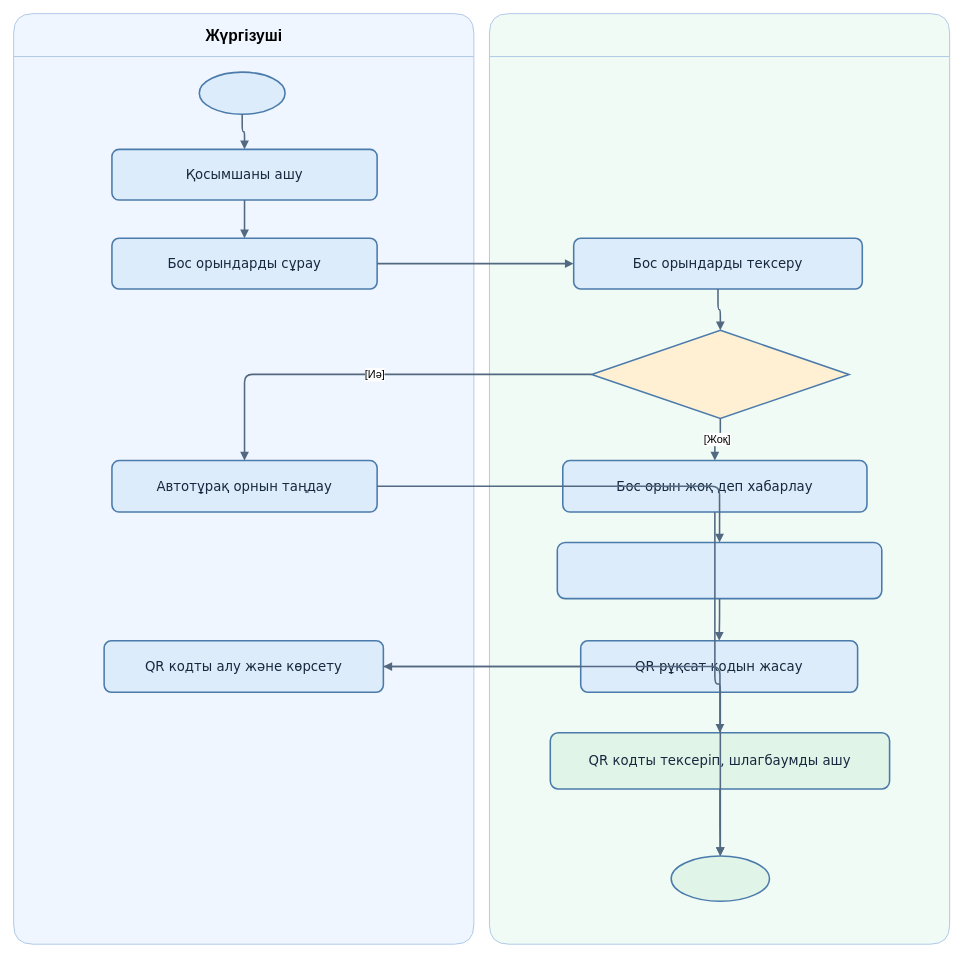
Some shapes in this 963 by 958 pixel diagram are drawn without their labels. The box of each missing label's shape, as (x1, y1, x2, y2) in pixels:
Аяқтау: (670, 855, 770, 902)
Ақылды автотұрақ жүйесі: (489, 13, 950, 944)
Бастау: (198, 71, 285, 115)
Бос орын бар ма?: (590, 329, 849, 419)
Броньды деректер базасына сақтау: (556, 541, 882, 599)
